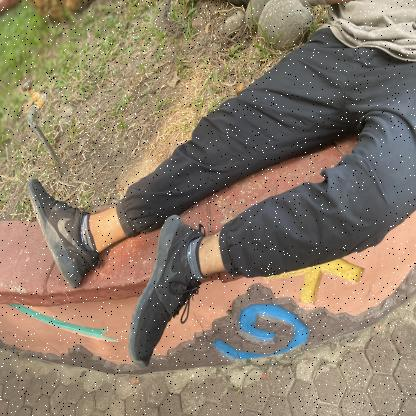leg: (124, 220, 306, 372), (16, 154, 148, 292)
